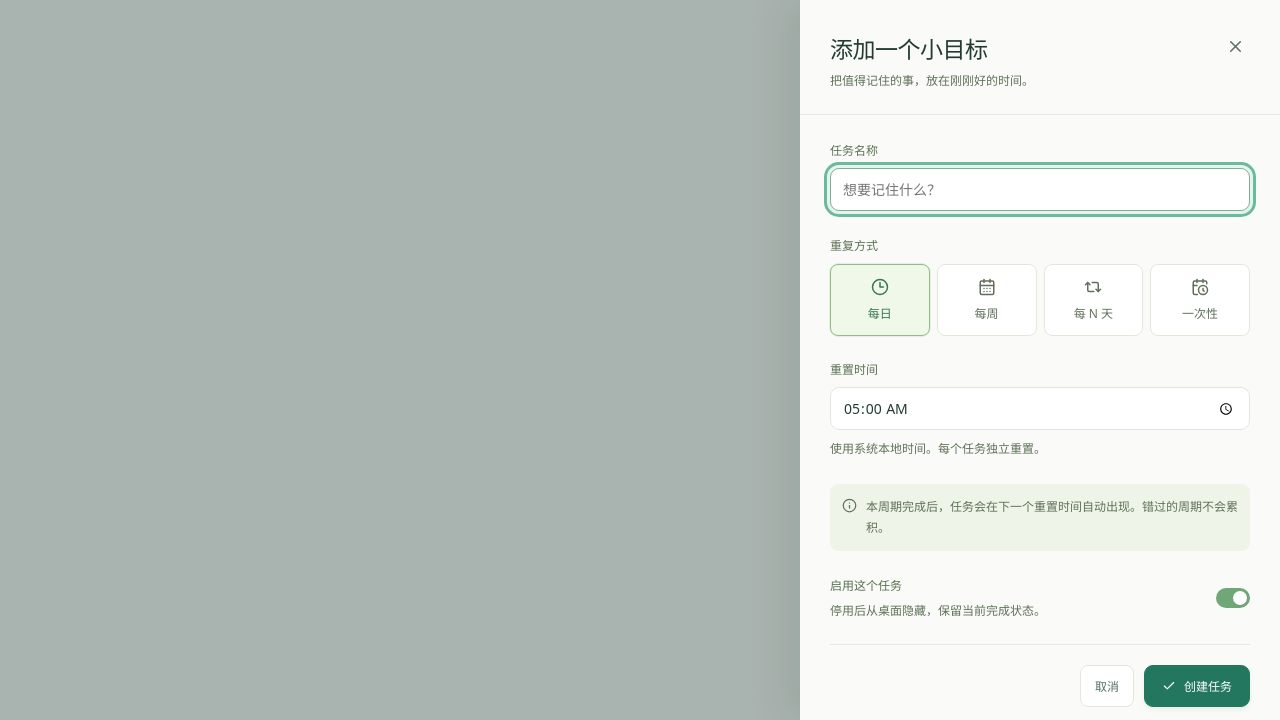
Test case: 任务编辑 › 拒绝空名称，不向后端提交
Step 1. Click the button "创建任务" → (1197,686), box x1=1144 y1=665 x2=1250 y2=707
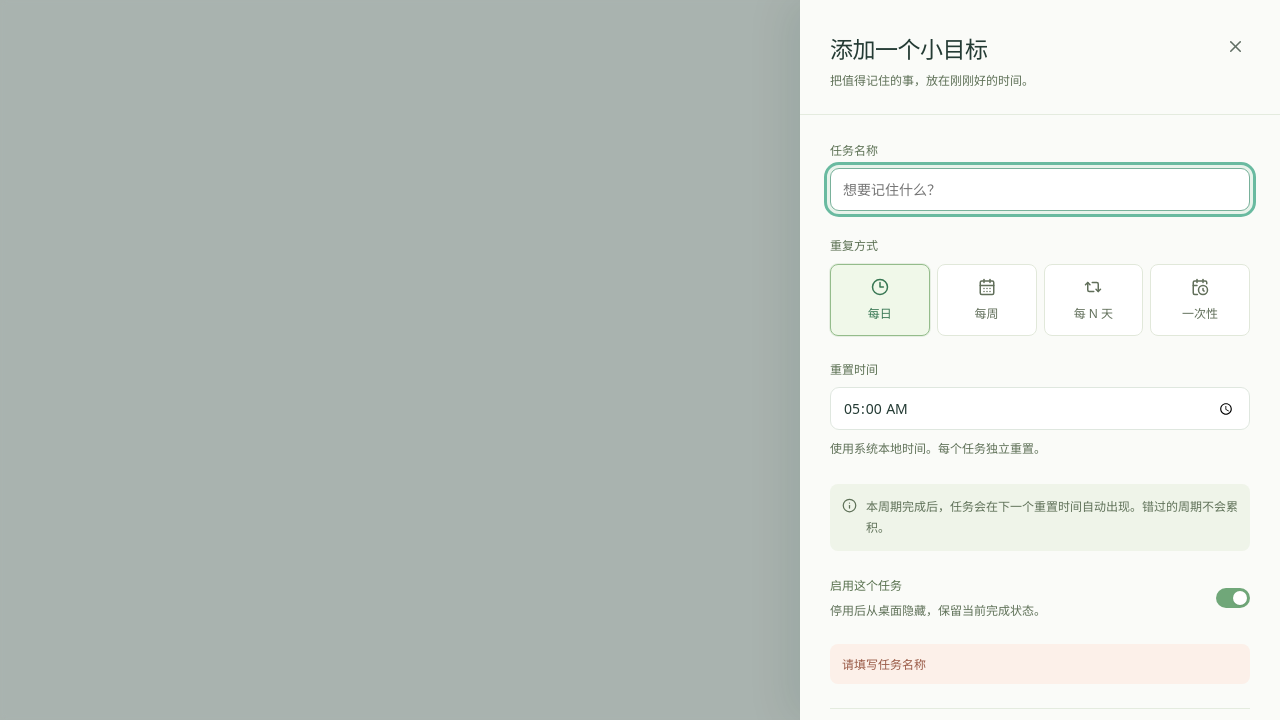
Expected: the text "请填写任务名称" is shown, x1=830 y1=644 x2=1250 y2=684
